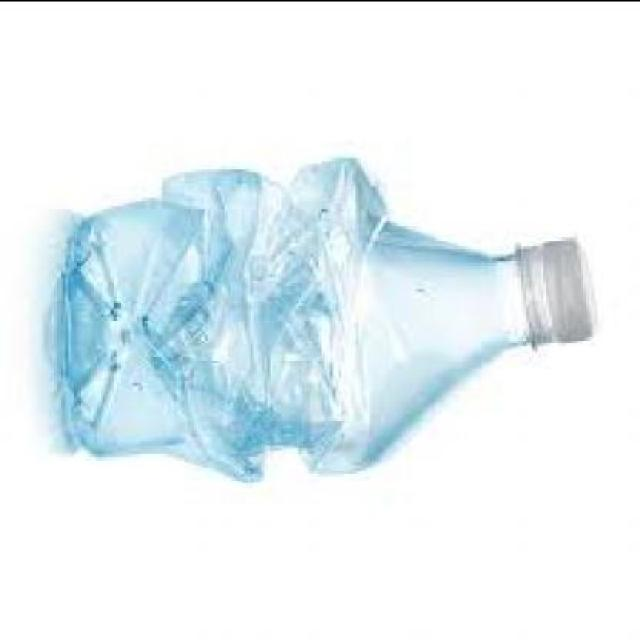PLASTIC: (62, 157, 598, 486), (526, 242, 600, 347)
